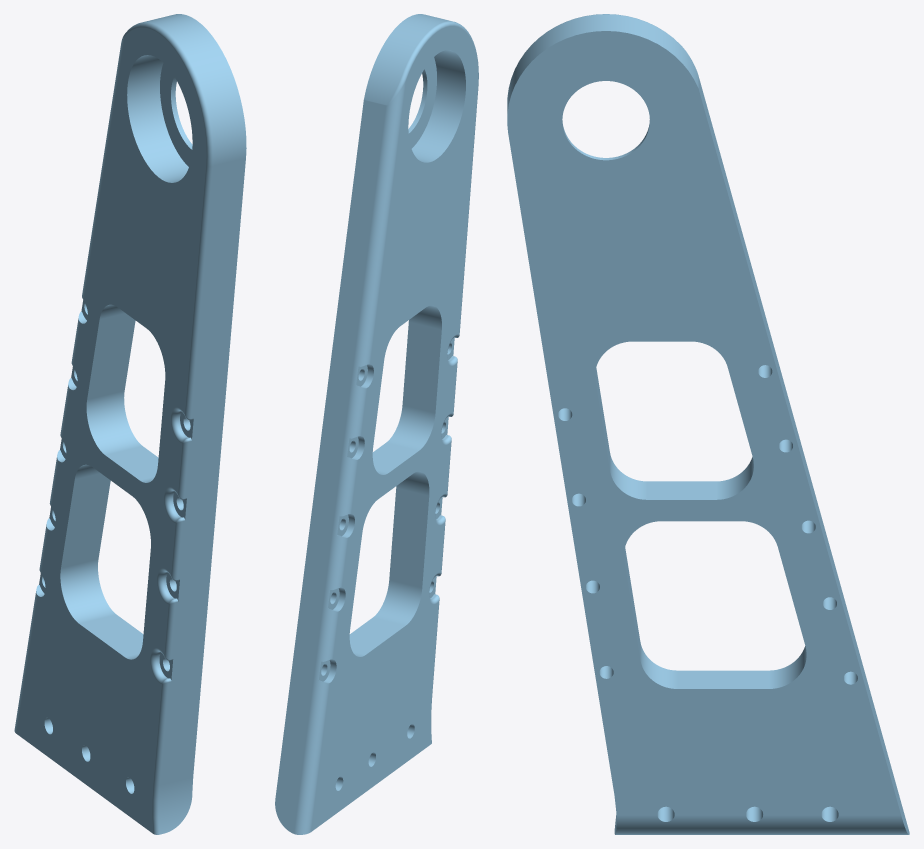
The picture shows the model from 3 angles, left to right: view 1: azimuth 30°, elevation 25°; view 2: azimuth 150°, elevation 25°; view 3: azimuth 270°, elevation 25°; orthographic projection. The views are drawn at different scales.
Visible parts, largest first — view 1: mesh3673, mesh3657, mesh3620, mesh3592, mesh3598, mesh3606, mesh3607, mesh3599, mesh3682, mesh3623, mesh3600, mesh3615 (+4 smaller); view 2: mesh3673, mesh3613, mesh3682, mesh3592, mesh3594, mesh3620, mesh3602, mesh3609, mesh3601, mesh3600, mesh3591, mesh3608 (+3 smaller); view 3: mesh3593, mesh3614, mesh3620, mesh3613, mesh3600, mesh3608, mesh3601, mesh3609.
Part boxes in pixels (x1,y1,x2,y2): mesh3673: (16,27,206,833); mesh3657: (159,158,245,784); mesh3620: (143,14,246,165); mesh3592: (127,55,188,182); mesh3598: (61,473,110,568); mesh3606: (87,313,135,399); mesh3607: (86,390,142,455); mesh3599: (60,559,116,623); mesh3682: (14,38,124,733); mesh3623: (185,165,212,418); mesh3600: (79,614,143,656); mesh3615: (159,777,193,834); mesh3673: (311,26,478,831); mesh3613: (275,100,385,833); mesh3682: (294,81,405,834); mesh3592: (411,50,465,162); mesh3594: (389,488,429,587); mesh3620: (364,14,451,104); mesh3602: (402,322,441,412); mesh3609: (386,405,435,450); mesh3601: (373,580,422,625); mesh3600: (349,617,405,654); mesh3591: (408,57,436,148); mesh3608: (372,442,418,472); mesh3593: (507,31,900,815); mesh3614: (615,815,908,834); mesh3620: (507,14,698,113); mesh3613: (698,77,909,834); mesh3600: (677,670,768,688); mesh3608: (647,481,716,499); mesh3601: (640,642,677,688); mesh3609: (610,453,647,499).
Size of the model in its own units: 0.00928 by 0.1909 by 0.0854.
